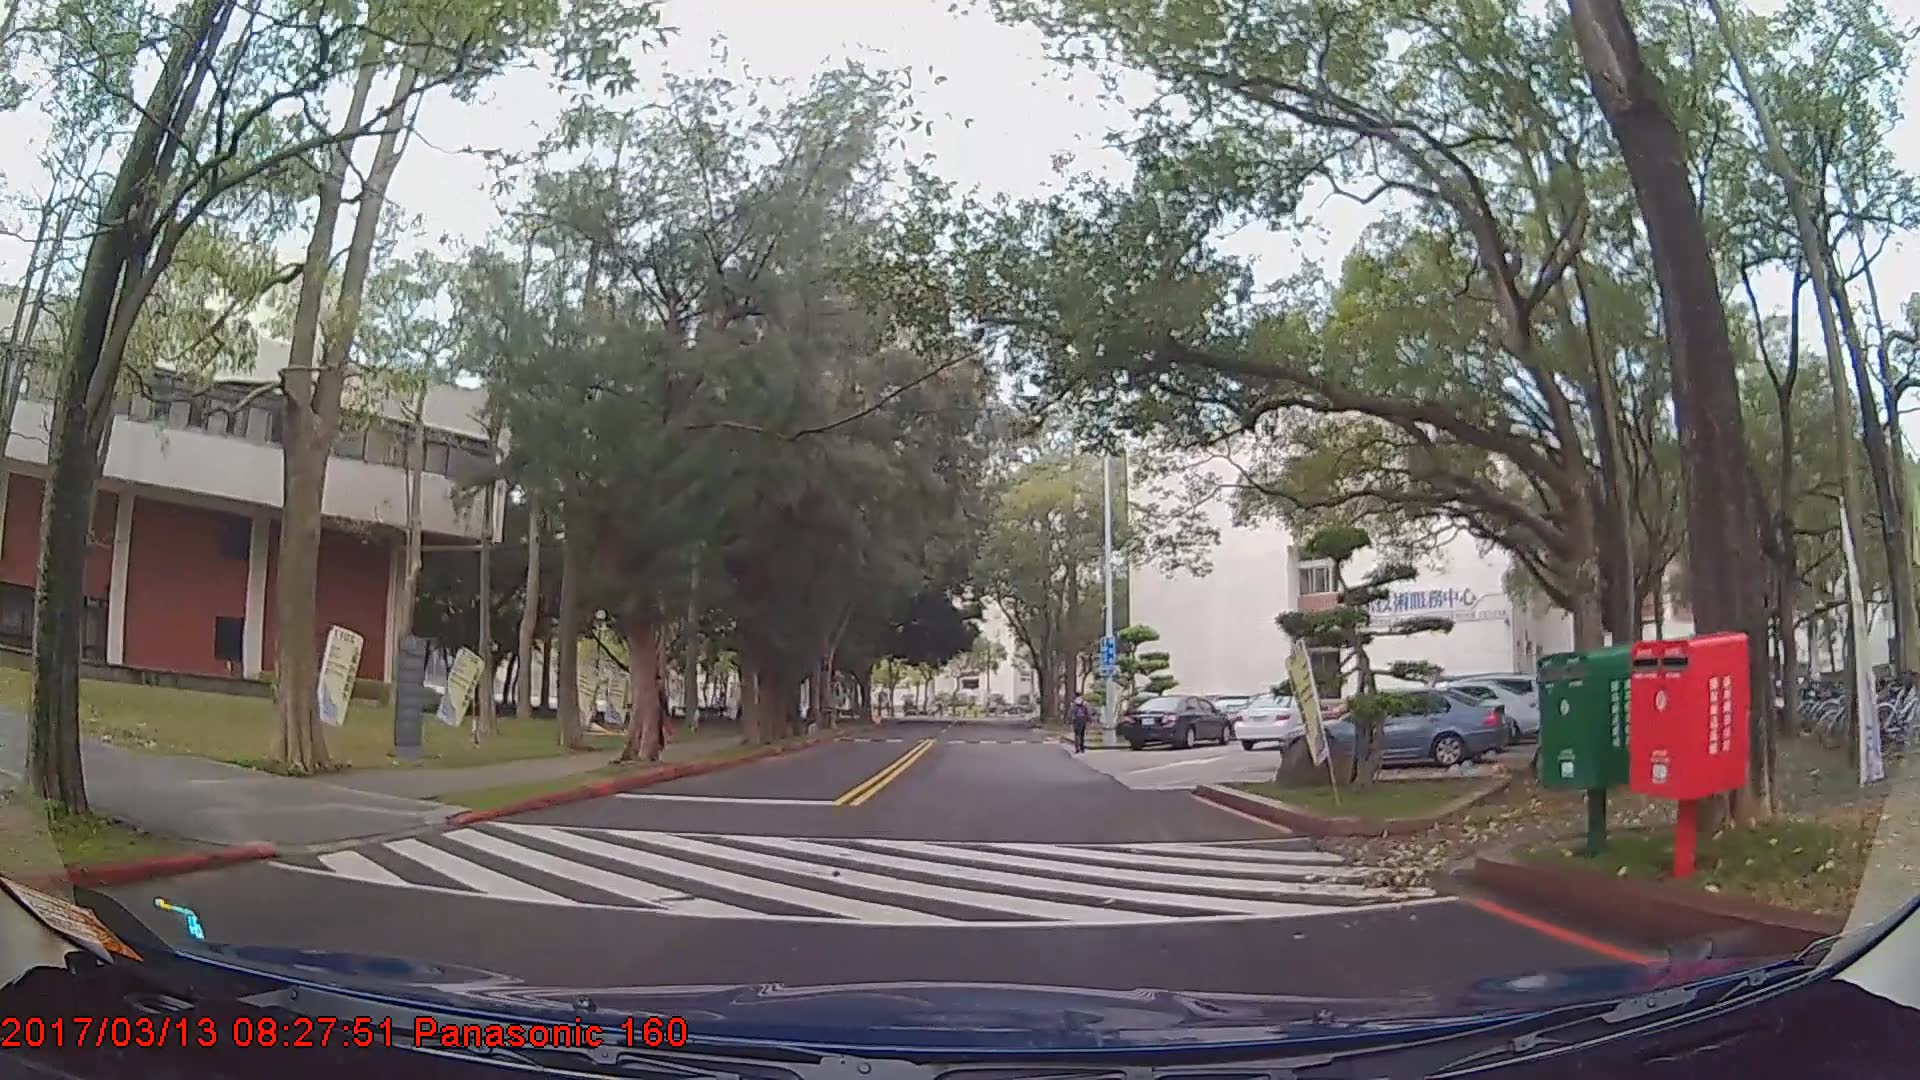pedestrian: (640, 672, 671, 753), (1068, 692, 1096, 756)
vehicle: (1276, 682, 1506, 776), (1117, 695, 1230, 749), (1232, 691, 1323, 750)
